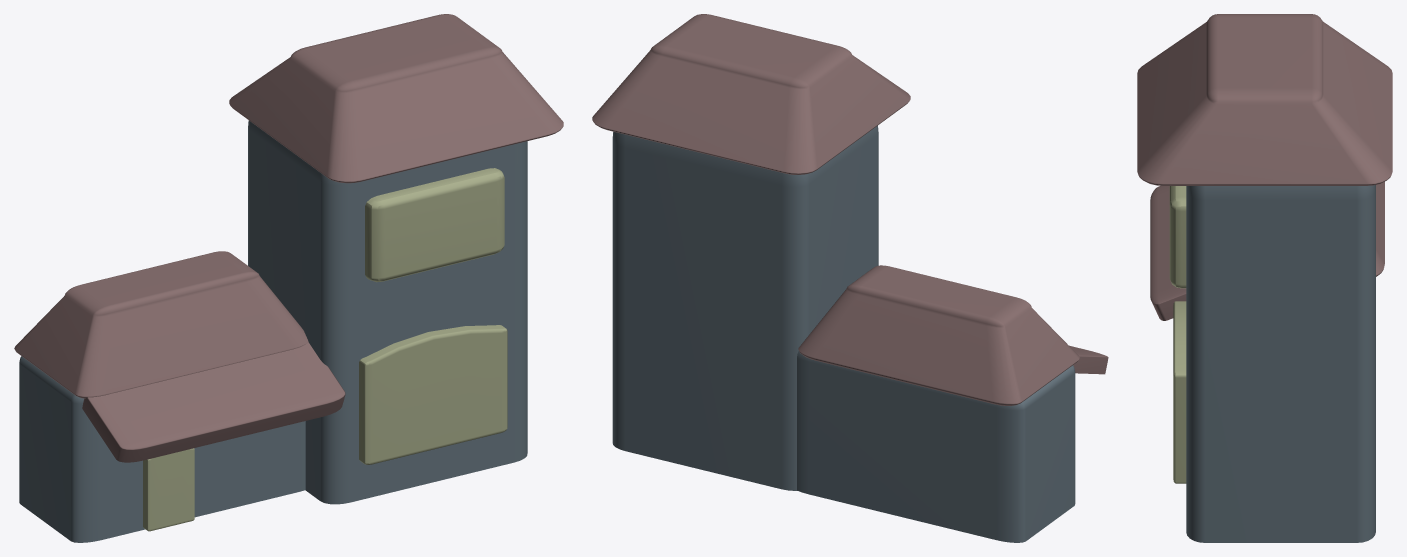
The picture shows the model from 3 angles, left to right: view 1: azimuth 30°, elevation 25°; view 2: azimuth 150°, elevation 25°; view 3: azimuth 270°, elevation 25°; orthographic projection. The views are drawn at different scales.
Visible parts, largest first — view 1: pCube21; view 2: pCube21; view 3: pCube21.
Boxes of the visible parts, x1,y1,x2,y2 form: pCube21: (14, 14, 563, 542); pCube21: (592, 14, 1108, 542); pCube21: (1137, 14, 1392, 542).
Size of the model in its own units: 34.2 by 29.59 by 15.68.
